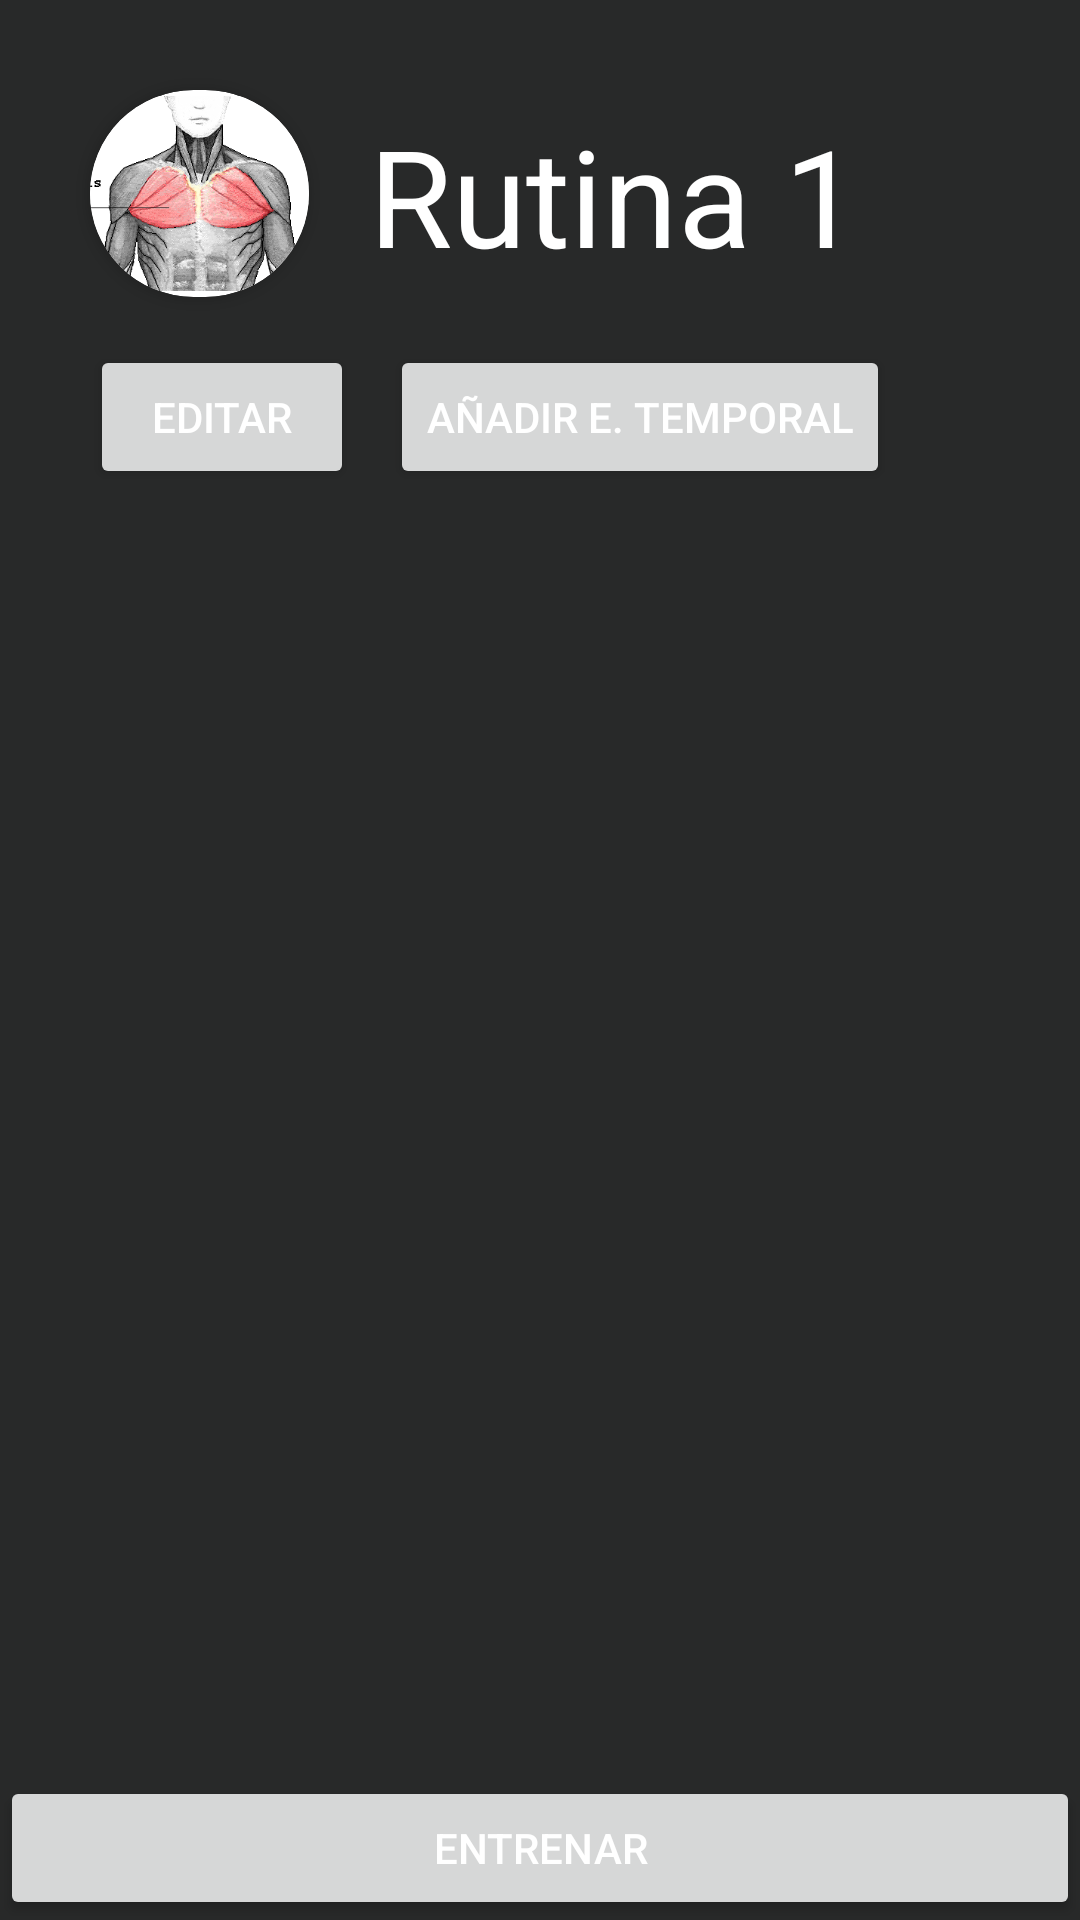

Named icons in this screenshot (1080×1920) and their centers, point (x, y):
pectoral: point (199, 193)
